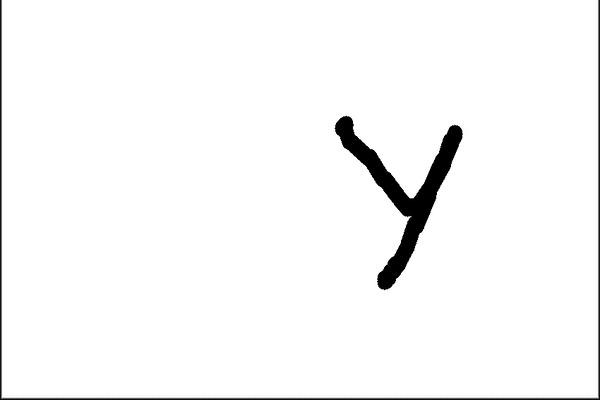Y: (317, 102, 469, 303)
